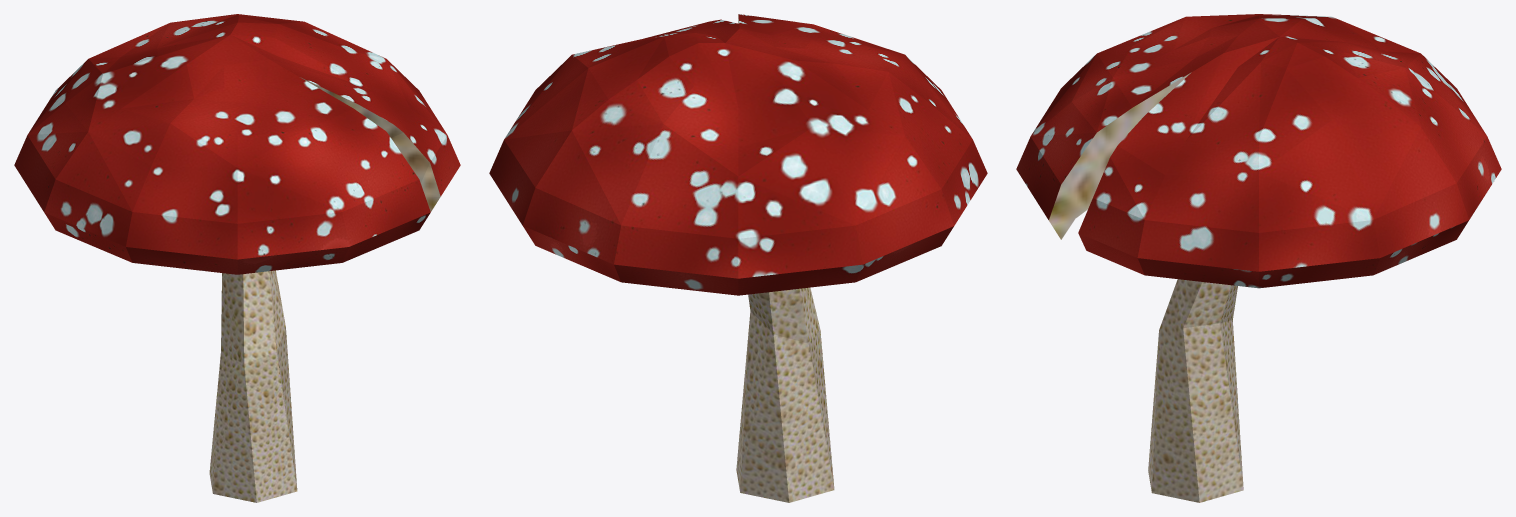
File: fungo_4.fbx
The picture shows the model from 3 angles, left to right: view 1: azimuth 30°, elevation 25°; view 2: azimuth 150°, elevation 25°; view 3: azimuth 270°, elevation 25°; orthographic projection. The views are drawn at different scales.
Parts seen in each view (by area): view 1: fungo_4; view 2: fungo_4; view 3: fungo_4.
Boxes of the visible parts, left/top/right/bottom form: fungo_4: left=14, top=14, right=460, bottom=502; fungo_4: left=489, top=14, right=987, bottom=502; fungo_4: left=1016, top=14, right=1501, bottom=502.
Bounding box in the file's own units: 19.43 × 20.07 × 19.43.
